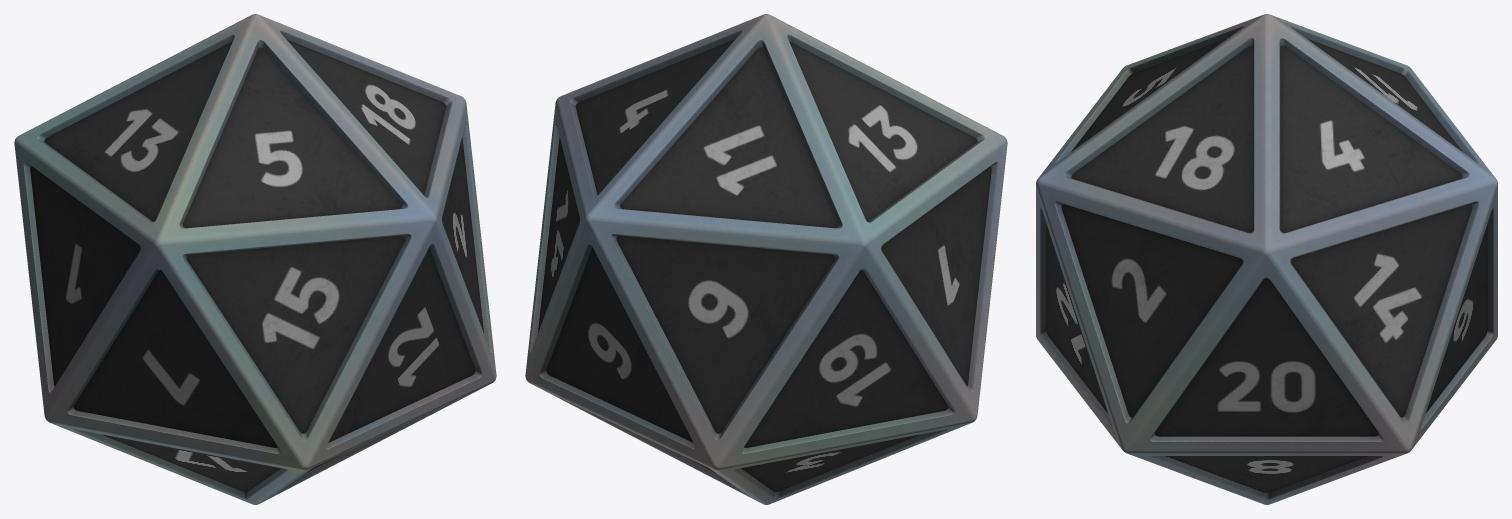
Rendered from d20_asset.glb.
The picture shows the model from 3 angles, left to right: view 1: azimuth 30°, elevation 25°; view 2: azimuth 150°, elevation 25°; view 3: azimuth 270°, elevation 25°; orthographic projection.
Visible parts, largest first — view 1: D20; view 2: D20; view 3: D20.
Boxes of the visible parts, x1,y1,x2,y2 form: D20: (14, 14, 496, 504); D20: (525, 14, 1007, 504); D20: (1036, 14, 1497, 504).
Bounding box in the file's own units: 0.1781 × 0.1986 × 0.1697.
Materials: 1 (1 with a texture image).
